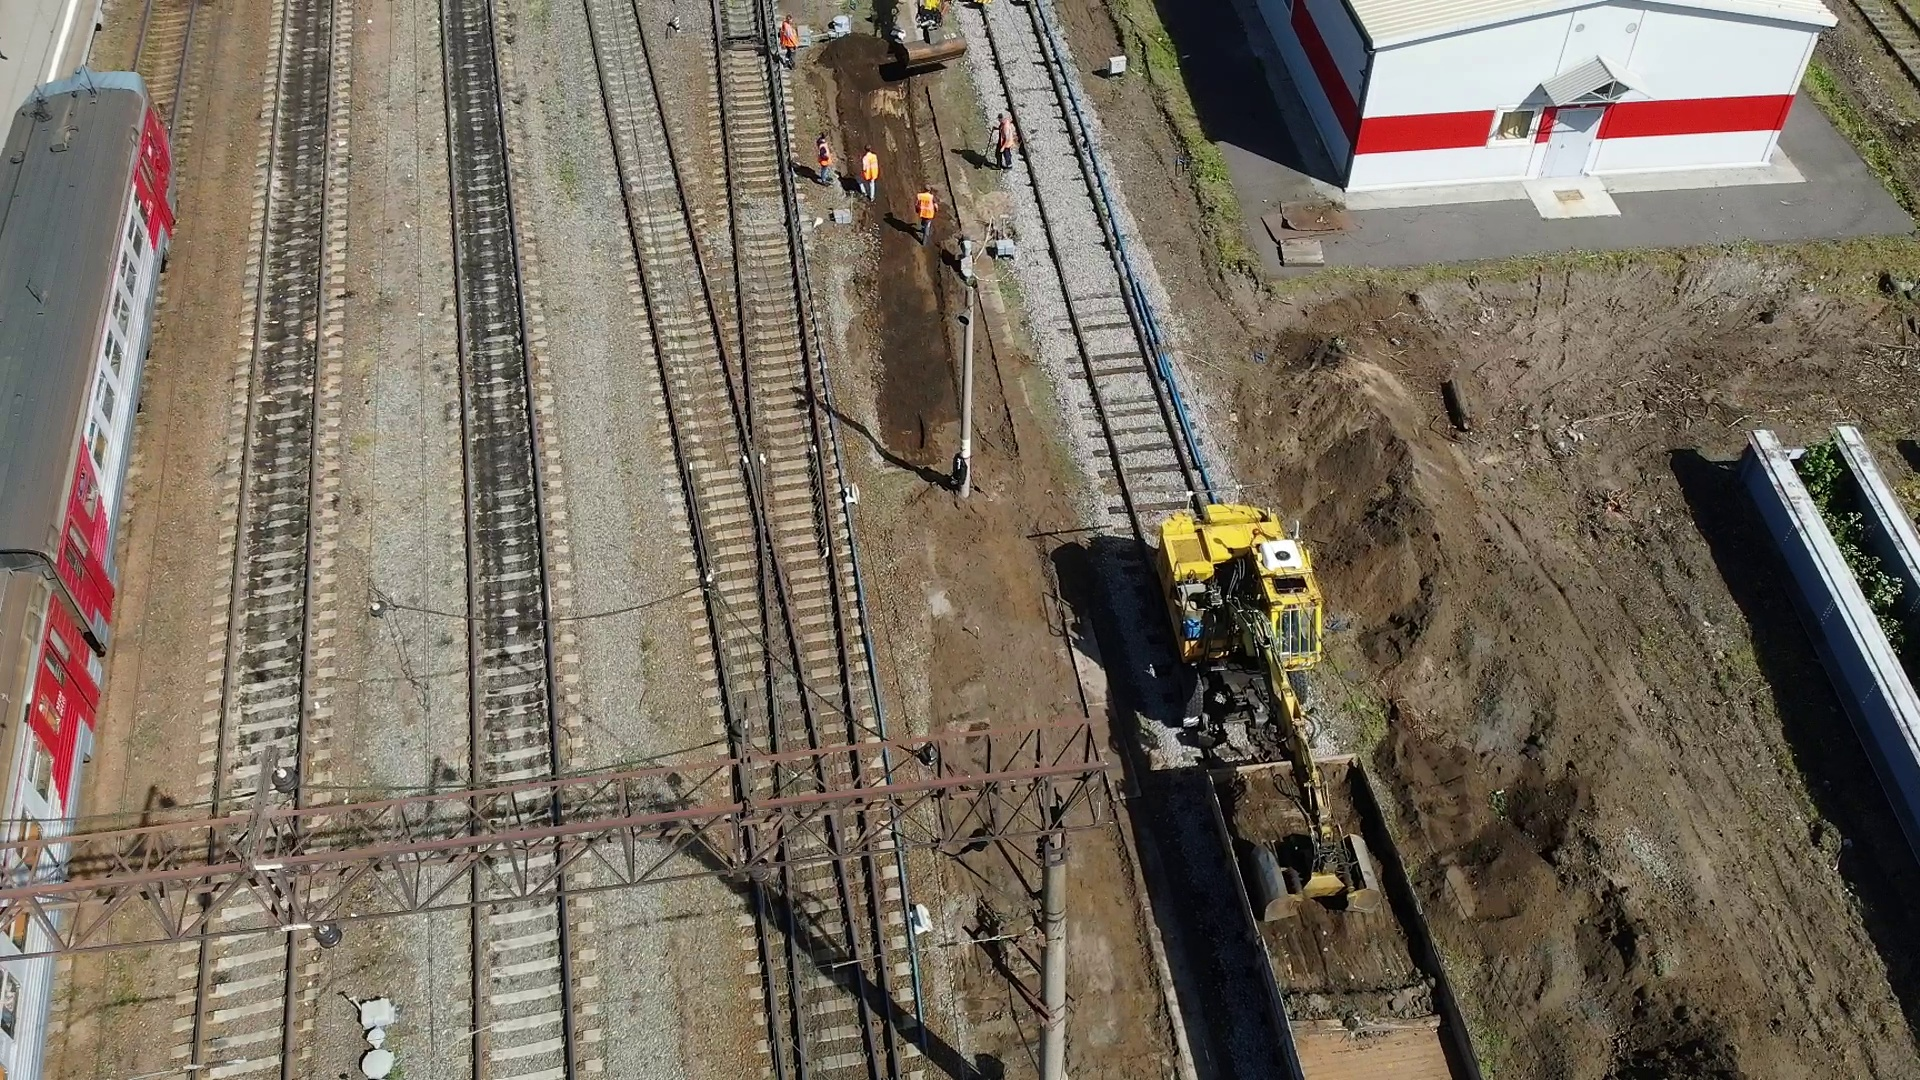kjtv: (1146, 484, 1315, 727)
